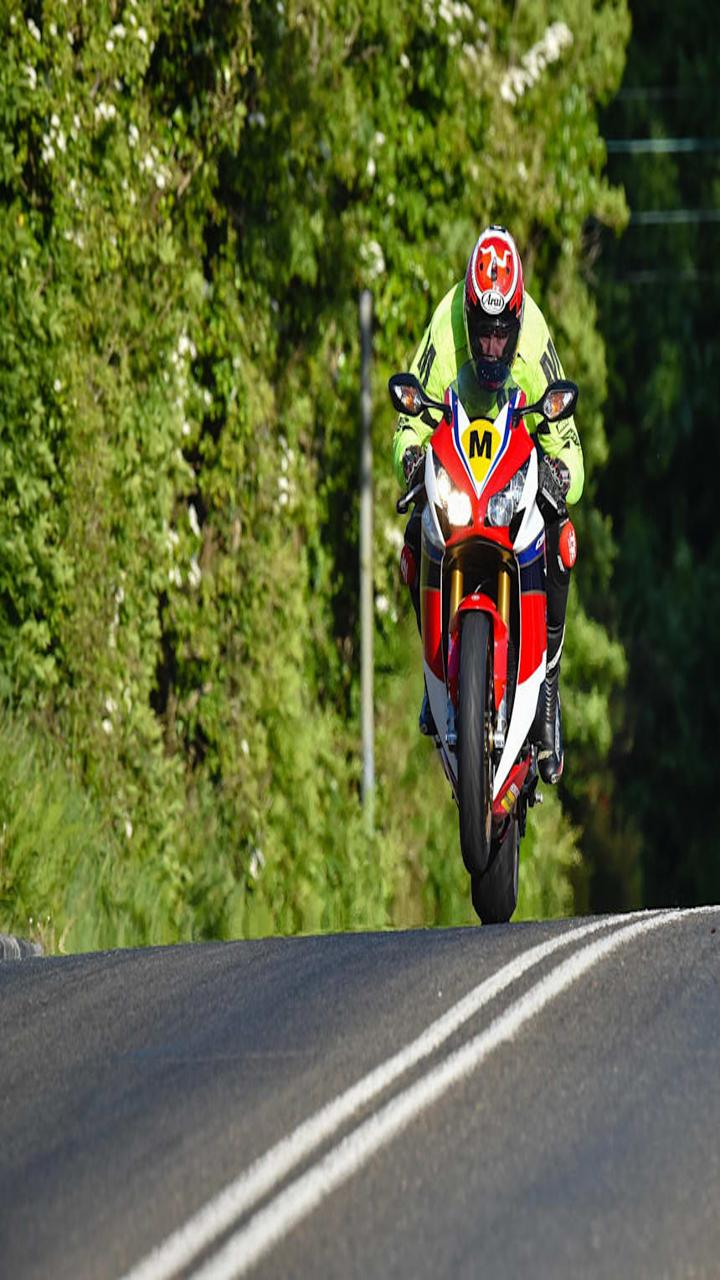cyclist: (378, 231, 607, 544)
motorcycle: (371, 367, 580, 929)
